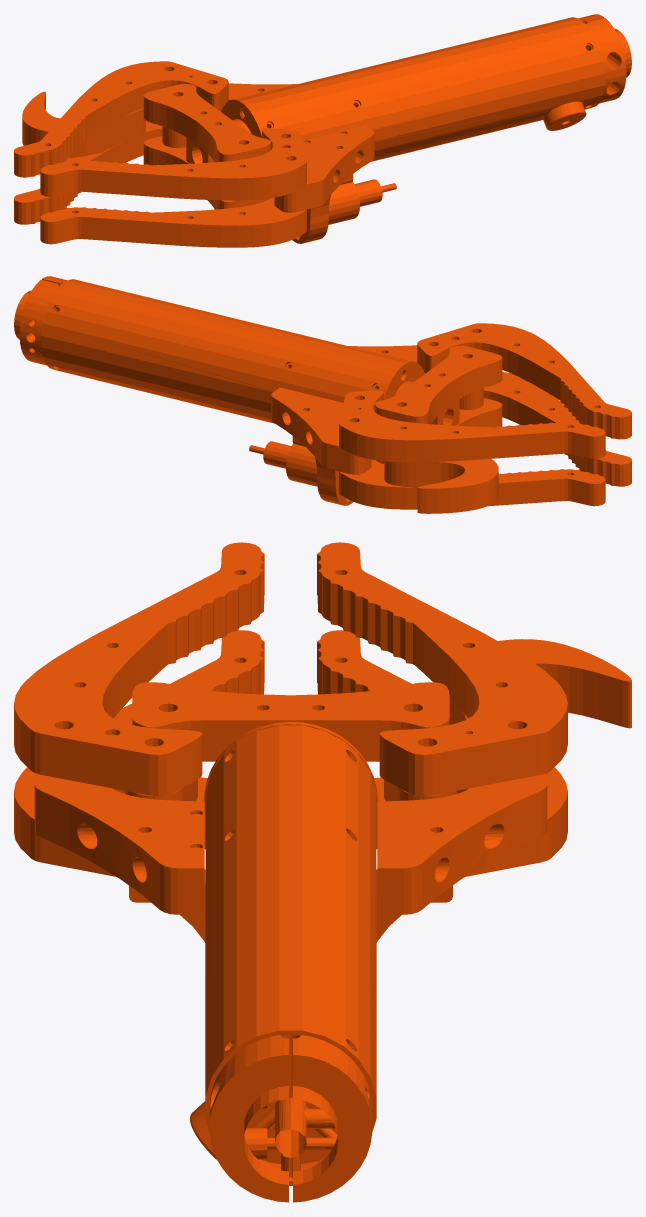
The model's file is arm3.dae.
3 views of the same model, one above another, from view 1: azimuth 30°, elevation 25°; view 2: azimuth 150°, elevation 25°; view 3: azimuth 270°, elevation 25° (orthographic). The views are drawn at different scales.
Visible parts, largest first — view 1: Arm-link-3; view 2: Arm-link-3; view 3: Arm-link-3.
Boxes of the visible parts, x1=… form: Arm-link-3: x1=14, y1=14, x2=631, y2=247; Arm-link-3: x1=14, y1=276, x2=631, y2=513; Arm-link-3: x1=14, y1=542, x2=631, y2=1202.
Bounding box in the file's own units: 16.07 × 7.82 × 3.84.
